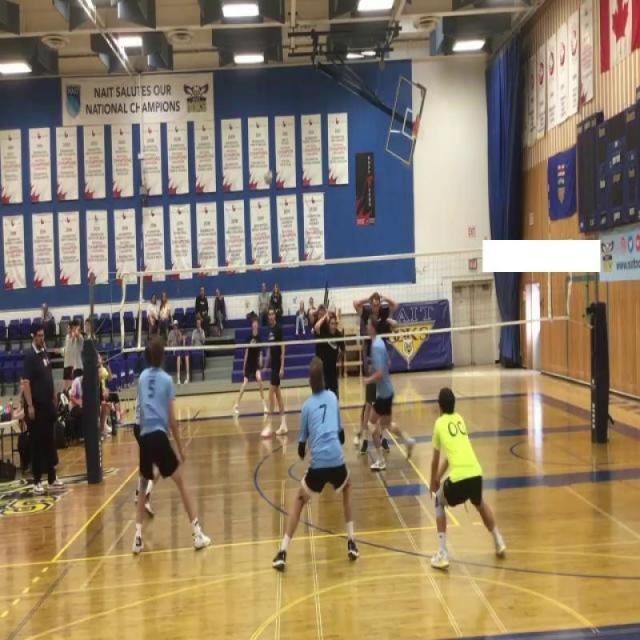volleyball: (264, 170, 273, 186)
